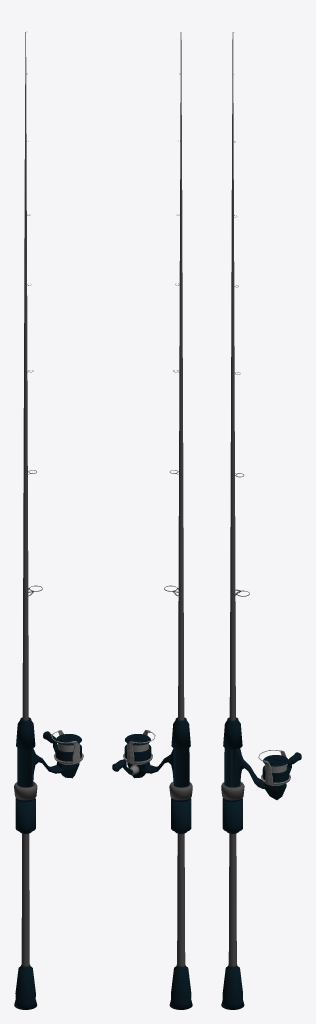
The model's file is f_rod.fbx.
3 renders of one model, left to right at view 1: azimuth 30°, elevation 25°; view 2: azimuth 150°, elevation 25°; view 3: azimuth 330°, elevation 25°, orthographic.
Visible parts, largest first — view 1: 円柱, 立方体.001, 円柱.001, 立方体; view 2: 円柱, 立方体.001, 円柱.001, 立方体; view 3: 円柱, 立方体.001, 立方体, 円柱.001.
Boxes of the visible parts, x1,y1,x2,y2 form: 円柱: (14,32,42,1009); 立方体.001: (55,734,81,778); 円柱.001: (54,730,83,764); 立方体: (33,748,63,779); 円柱: (164,32,192,1009); 立方体.001: (124,734,151,778); 円柱.001: (123,730,152,764); 立方体: (143,748,173,781); 円柱: (221,32,249,1009); 立方体.001: (262,755,289,799); 立方体: (234,748,265,789); 円柱.001: (261,750,290,785).
Size of the model in its own units: 18.76 by 268 by 15.79.
